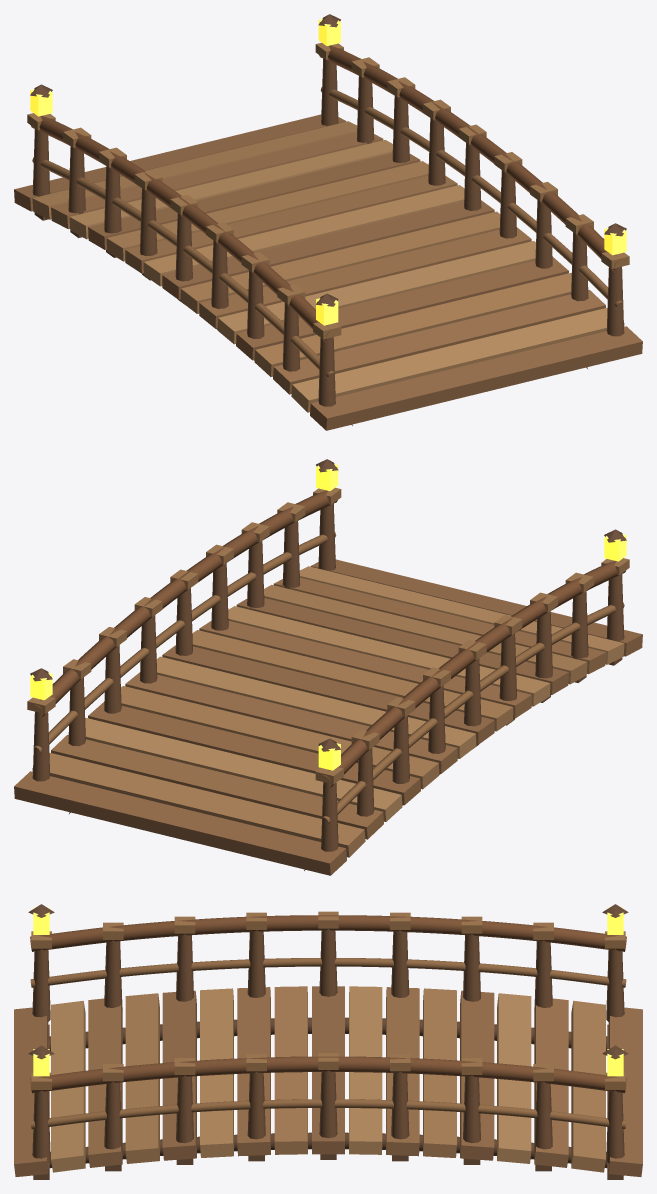
File: bridge.glb
3 views of the same model, one above another, from view 1: azimuth 30°, elevation 25°; view 2: azimuth 150°, elevation 25°; view 3: azimuth 270°, elevation 25° (orthographic).
Parts seen in each view (by area): view 1: PortfolioBridge; view 2: PortfolioBridge; view 3: PortfolioBridge.
Part boxes in pixels (box(x1,y1,x2,y2)): PortfolioBridge: box(14, 14, 642, 430); PortfolioBridge: box(14, 459, 642, 875); PortfolioBridge: box(14, 904, 642, 1179).
Bounding box in the file's own units: 3.55 × 1.47 × 6.09.
